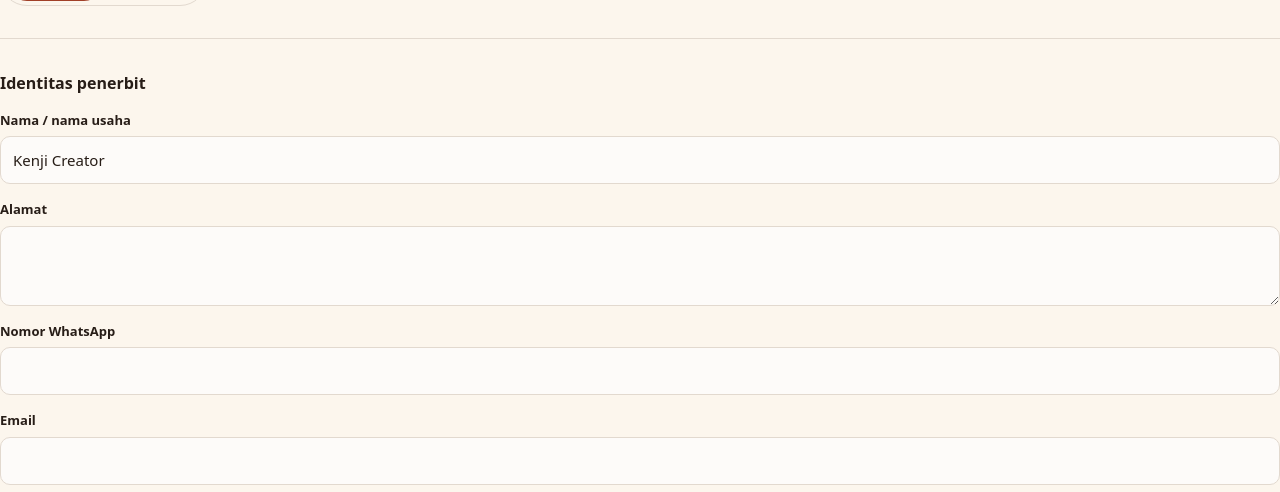
Scenario: SettingsForm — required validation › rejects an invalid email format without saving
The width and height of the screenshot is (1280, 492).
Type "not-an-email" into the field labelled "Email".
click(640, 460); type("not-an-email")  # box x1=0 y1=436 x2=1279 y2=484
(page scrolled)
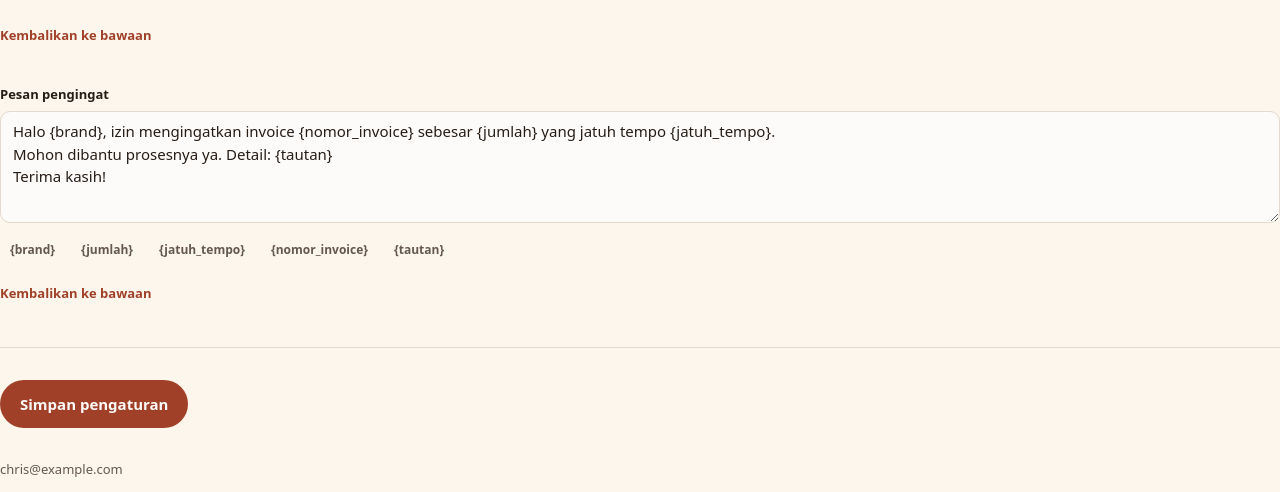
Click the button "Simpan pengaturan".
click(94, 404)  # box x1=0 y1=380 x2=188 y2=428
(page scrolled)
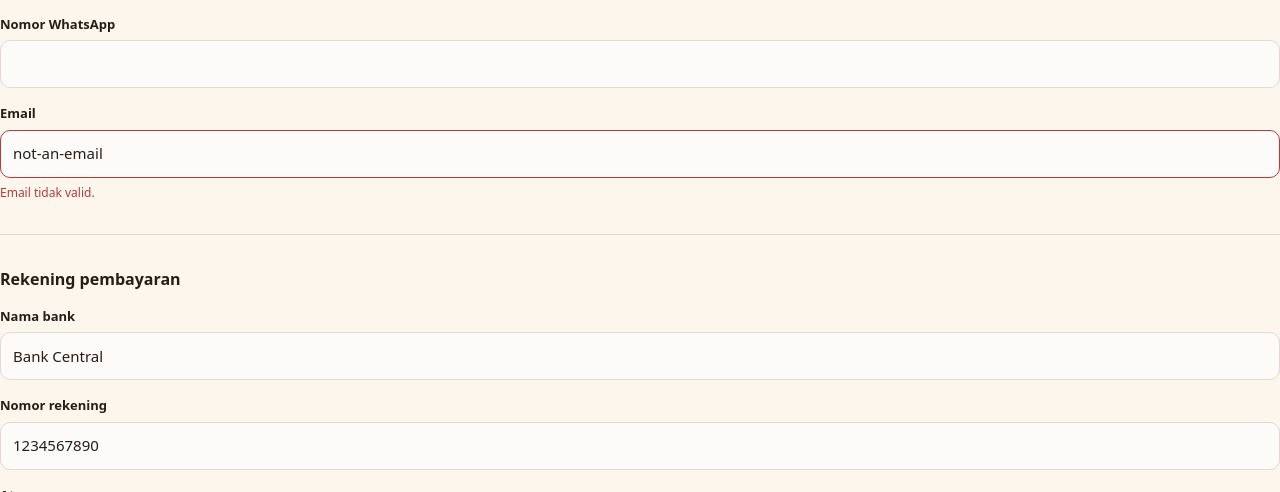
Expected: the text "Email tidak valid." is shown, x1=0 y1=184 x2=95 y2=200
